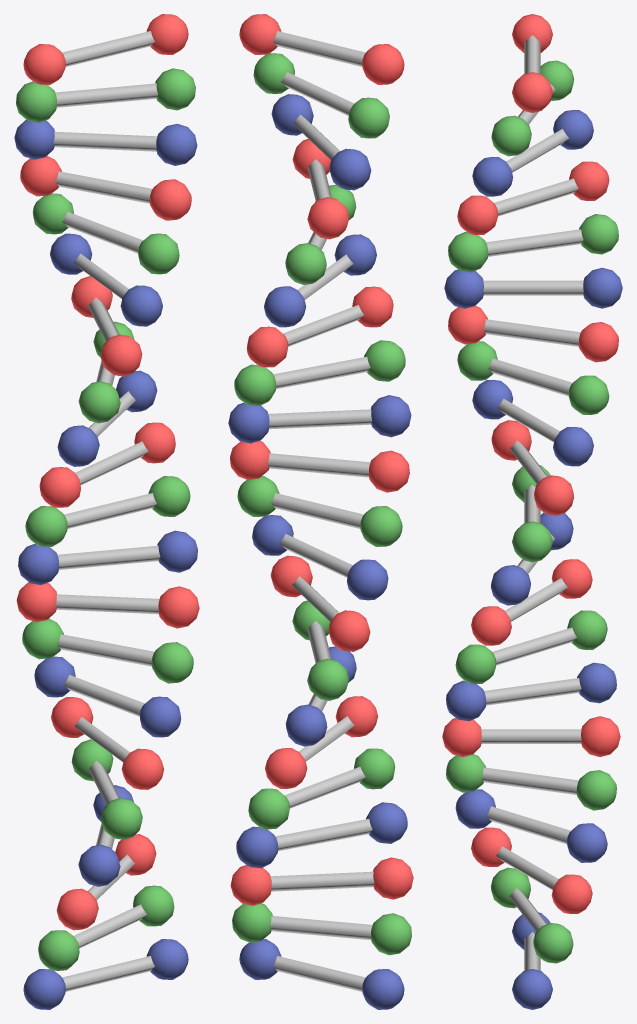
Rendered from dna3ds.dae.
The picture shows the model from 3 angles, left to right: view 1: azimuth 30°, elevation 25°; view 2: azimuth 150°, elevation 25°; view 3: azimuth 270°, elevation 25°; orthographic projection. The views are drawn at different scales.
Visible parts, largest first — view 1: Cylinder003, Cylinder013, Cylinder002, Cylinder012, Cylinder014, Cylinder004, Cylinder011, Cylinder021, Cylinder001, Sphere027, Sphere008, Sphere001 (+47 smaller); view 2: Cylinder019, Cylinder009, Cylinder020, Cylinder010, Cylinder018, Cylinder008, Cylinder011, Cylinder021, Cylinder001, Sphere001, Sphere041, Sphere022 (+49 smaller); view 3: Cylinder006, Cylinder016, Cylinder007, Cylinder005, Cylinder017, Cylinder015, Sphere004, Sphere036, Sphere008, Sphere040, Sphere027, Sphere015 (+49 smaller).
Part boxes in pixels (left/top/right/bottom): Cylinder003: left=53, top=131, right=157, bottom=151; Cylinder013: left=55, top=594, right=159, bottom=614; Cylinder002: left=55, top=83, right=158, bottom=107; Cylinder012: left=57, top=545, right=160, bottom=569; Cylinder014: left=57, top=634, right=154, bottom=666; Cylinder004: left=55, top=171, right=152, bottom=203; Cylinder011: left=64, top=493, right=156, bottom=528; Cylinder021: left=62, top=956, right=154, bottom=991; Cylinder001: left=62, top=31, right=154, bottom=66; Sphere027: left=151, top=642, right=193, bottom=683; Sphere008: left=149, top=179, right=191, bottom=220; Sphere001: left=23, top=44, right=65, bottom=84; Cylinder019: left=270, top=871, right=374, bottom=891; Cylinder009: left=268, top=409, right=372, bottom=429; Cylinder020: left=269, top=916, right=372, bottom=939; Cylinder010: left=267, top=453, right=370, bottom=477; Cylinder018: left=275, top=819, right=372, bottom=851; Cylinder008: left=273, top=356, right=370, bottom=388; Cylinder011: left=271, top=493, right=363, bottom=528; Cylinder021: left=273, top=956, right=365, bottom=991; Cylinder001: left=273, top=31, right=365, bottom=66; Sphere001: left=362, top=44, right=404, bottom=84; Sphere041: left=362, top=969, right=404, bottom=1009; Sphere022: left=360, top=506, right=402, bottom=546; Cylinder006: left=483, top=280, right=583, bottom=295; Cylinder016: left=481, top=729, right=581, bottom=743; Cylinder007: left=483, top=319, right=580, bottom=346; Cylinder005: left=486, top=229, right=583, bottom=256; Cylinder017: left=481, top=767, right=578, bottom=794; Cylinder015: left=484, top=678, right=581, bottom=705; Sphere004: left=491, top=115, right=531, bottom=156; Sphere036: left=566, top=823, right=607, bottom=862; Sphere008: left=457, top=195, right=498, bottom=234; Sphere040: left=533, top=923, right=573, bottom=963; Sphere027: left=455, top=644, right=496, bottom=683; Sphere015: left=568, top=375, right=609, bottom=414.
Bounding box in the file's own units: 167 × 952 × 167.
